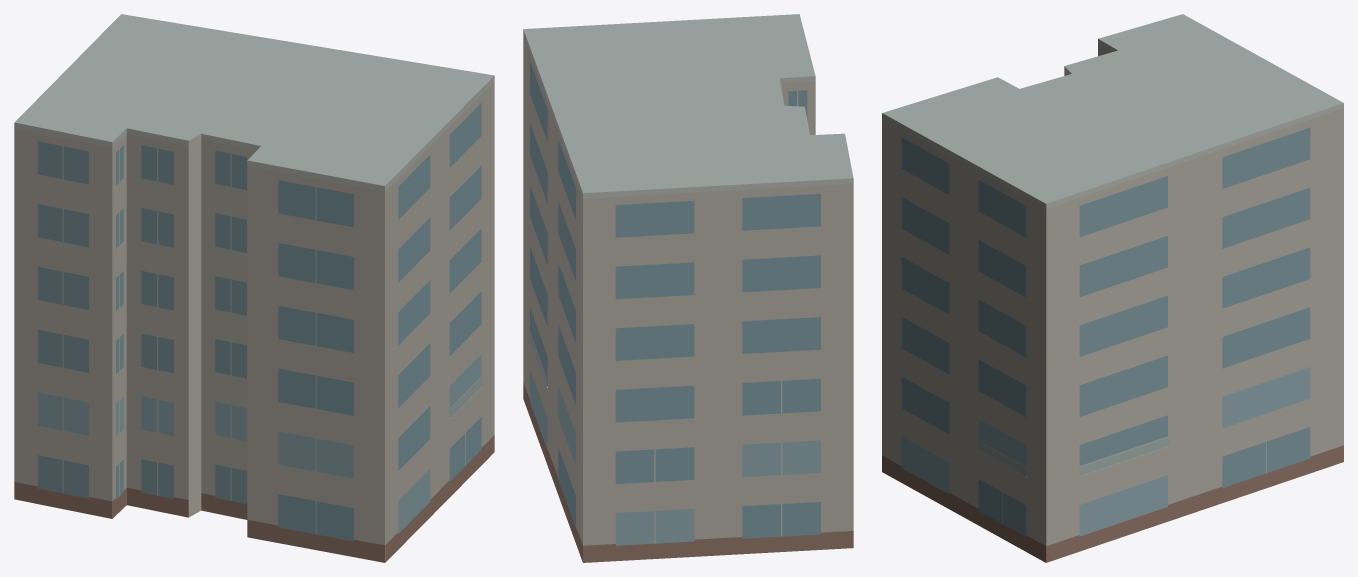
The model's file is survey-upis-32724178.glb.
3 renders of one model, left to right at view 1: azimuth 30°, elevation 25°; view 2: azimuth 150°, elevation 25°; view 3: azimuth 270°, elevation 25°, orthographic. The views are drawn at different scales.
Visible parts, largest first — view 1: survey-upis-32724178.tmp; view 2: survey-upis-32724178.tmp; view 3: survey-upis-32724178.tmp.
Part boxes in pixels (box(x1,y1,x2,y2)): survey-upis-32724178.tmp: box(14, 14, 494, 562); survey-upis-32724178.tmp: box(523, 14, 853, 562); survey-upis-32724178.tmp: box(882, 14, 1343, 562).
Bounding box in the file's own units: 18.95 × 16.7 × 19.47.
